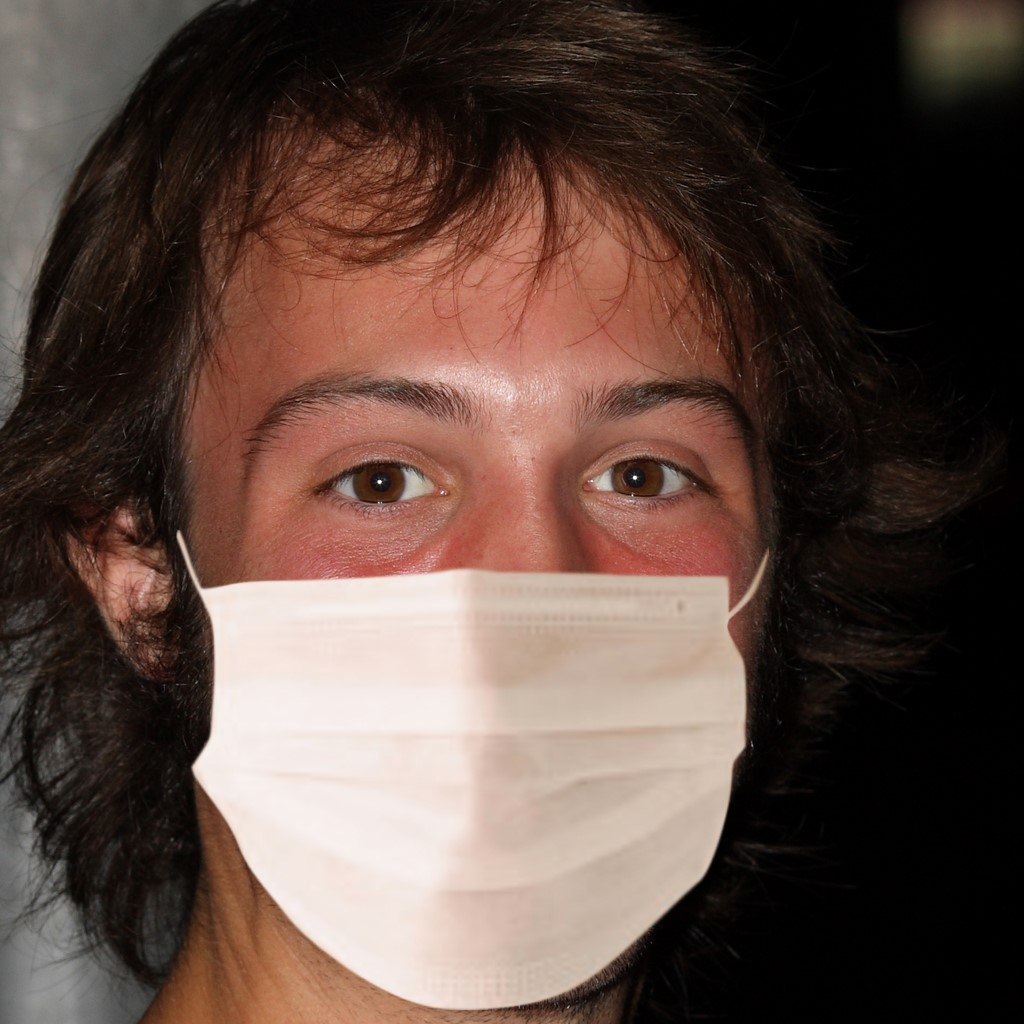con_mascara: (92, 80, 783, 990)
